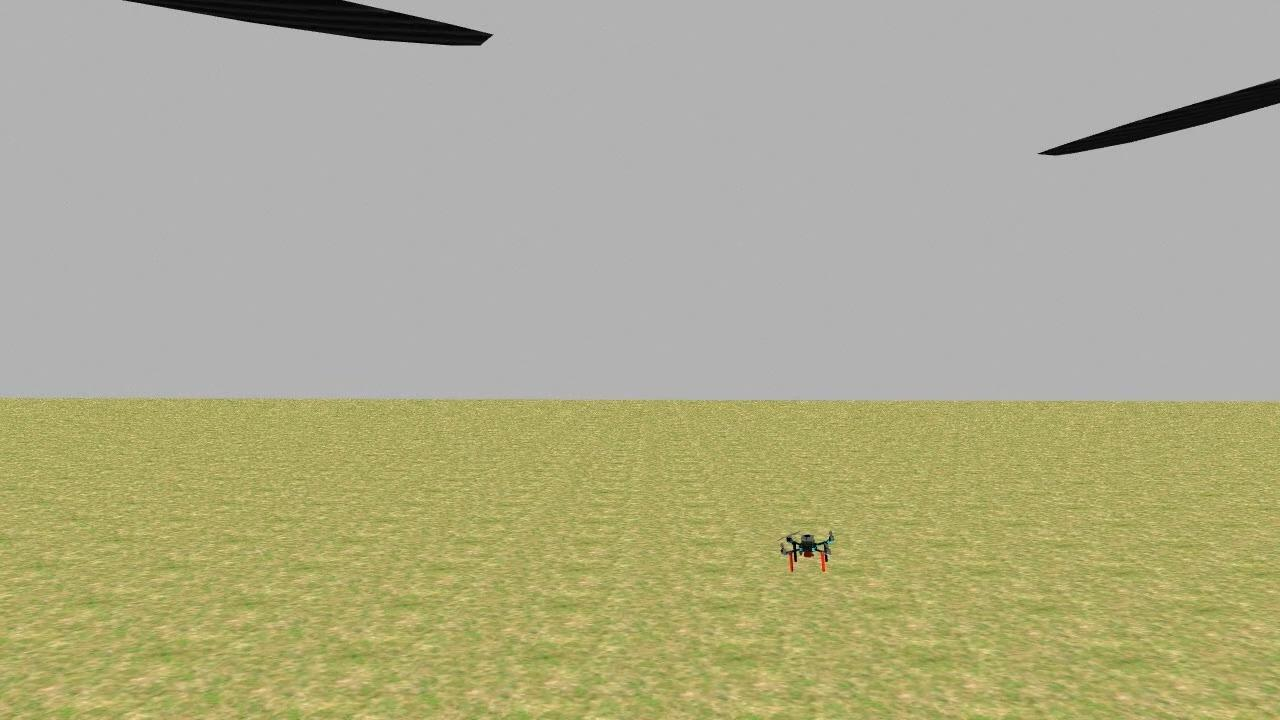UAV: (754, 511, 862, 586)
